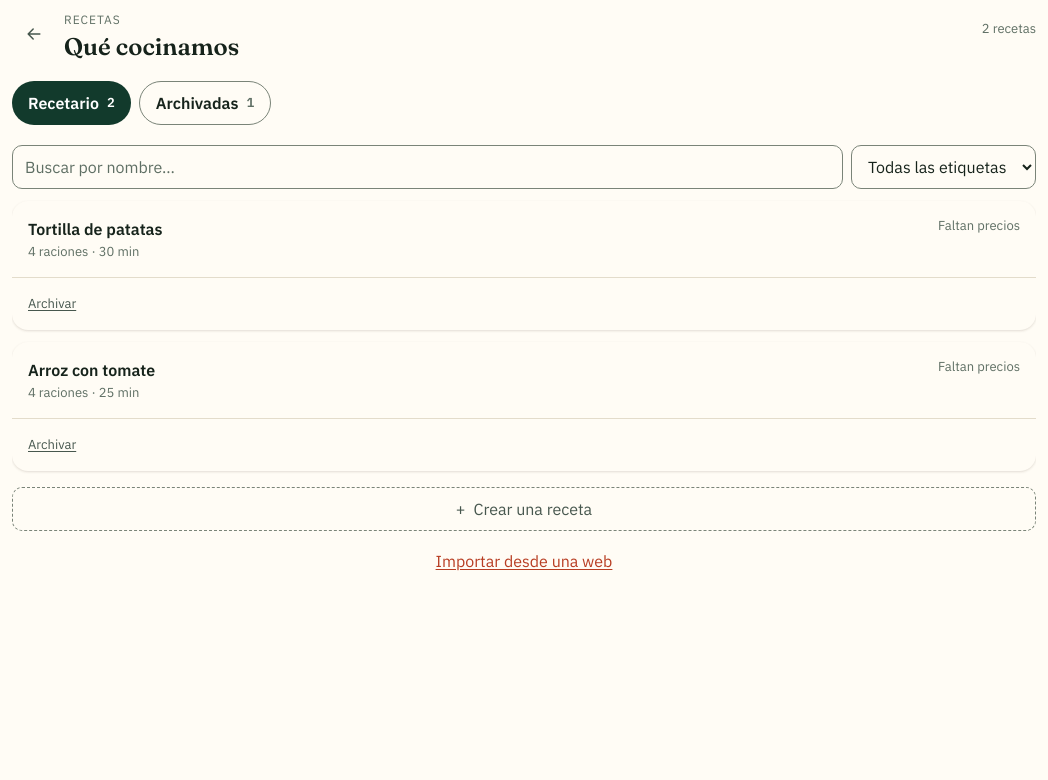
it: Recetario · la cabecera, las pestanas y las tarjetas › *** un filtro que no encuentra nada lo dice con el filtro delante ***
The image size is (1048, 780).
Expected: the heading "Qué cocinamos" is shown, x1=64 y1=32 x2=239 y2=61
Type "cebolla" into the search field named "Buscar recetas por nombre".
click(428, 167); type("cebolla")  # box x1=12 y1=145 x2=843 y2=189
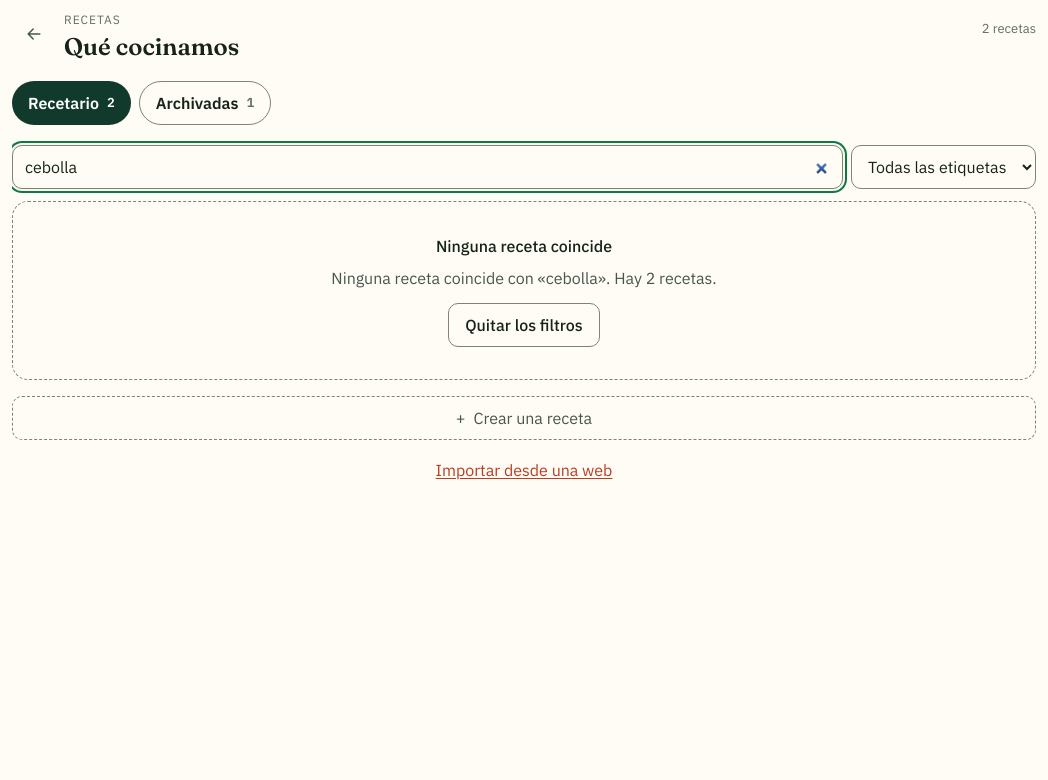
Now the text "Ninguna receta coincide con «cebolla». Hay 2 recetas." is shown, box x1=331 y1=266 x2=717 y2=291
Now the button "Quitar los filtros" is shown, box x1=448 y1=303 x2=600 y2=347
